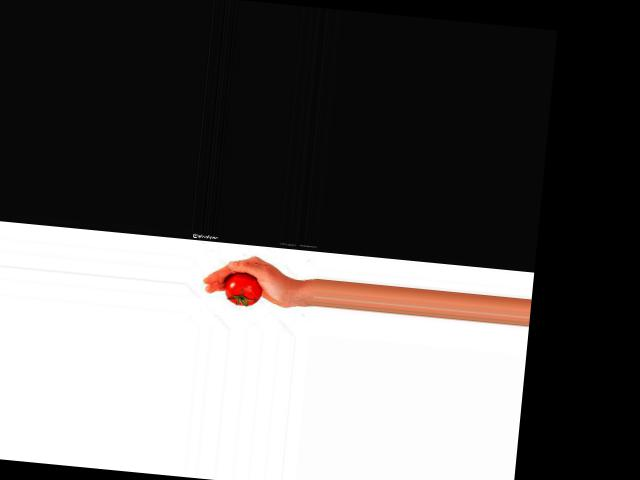tomato: (224, 271, 264, 306)
